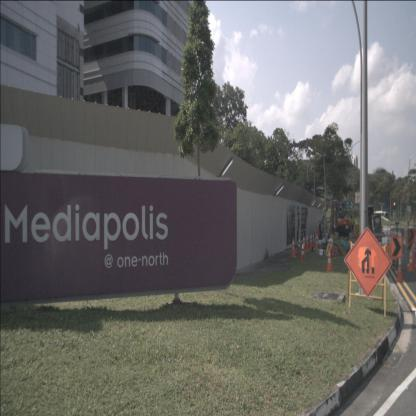cone: (396, 255, 404, 283), (326, 247, 334, 273), (407, 249, 415, 273), (328, 235, 336, 258), (289, 236, 296, 258), (296, 235, 302, 255), (300, 242, 305, 265), (301, 233, 307, 252), (308, 233, 314, 250), (305, 232, 310, 252), (315, 232, 319, 249), (312, 232, 316, 248)
